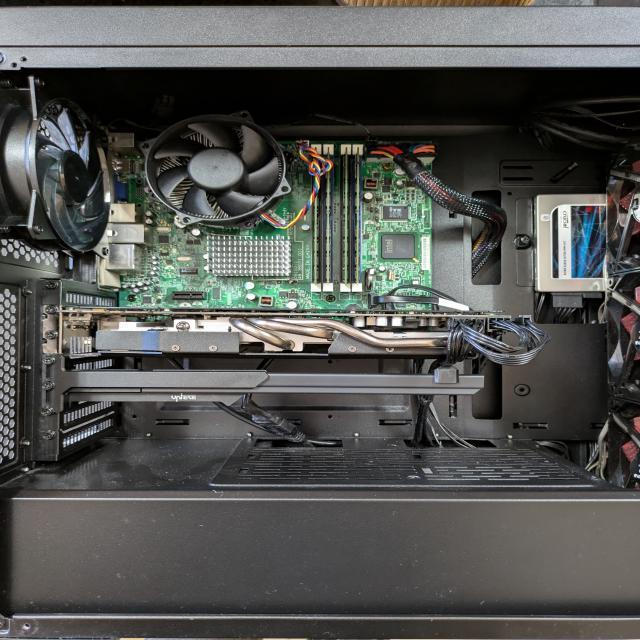CPU_Fan: (142, 112, 288, 225)
DISK: (534, 194, 607, 292)
Mainboard: (119, 140, 434, 308)
RAM: (310, 144, 322, 292), (341, 144, 351, 292), (352, 144, 362, 292), (323, 144, 332, 292)
